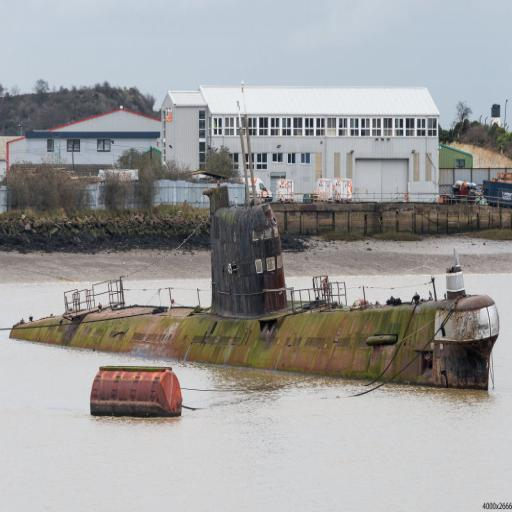submarine: (2, 75, 497, 395)
